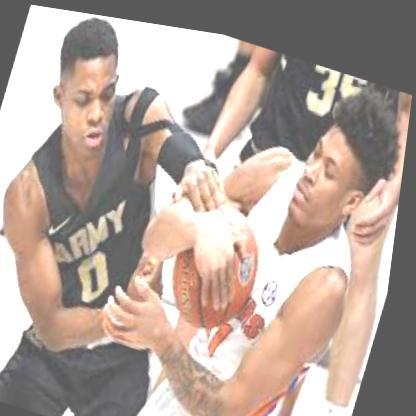basketball: (164, 187, 278, 337)
